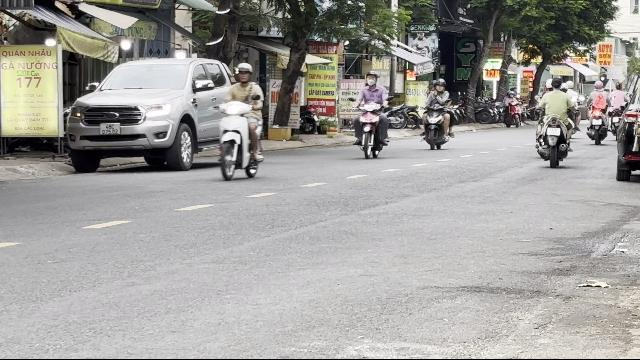helmet: (234, 62, 252, 82)
motorcyclist: (214, 62, 266, 180)
